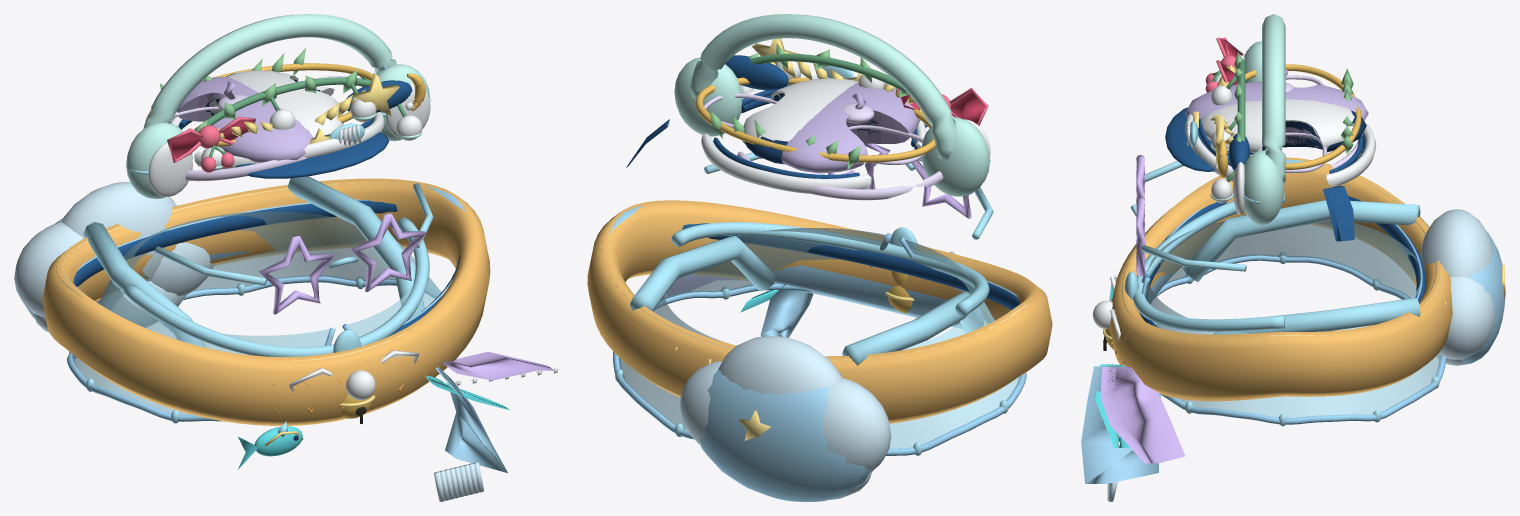
Rendered from nava-wardrobe-accessories-Can72iLc.glb.
The picture shows the model from 3 angles, left to right: view 1: azimuth 30°, elevation 25°; view 2: azimuth 150°, elevation 25°; view 3: azimuth 270°, elevation 25°; orthographic projection. The views are drawn at different scales.
Visible parts, largest first — view 1: honey knitted yarn | honey-neck-warmer, translucent raindrop ice | raindrop-cape, cloud-knit highlight | cloud-backpack, soft mint plush | mint-earmuffs, ice blue satin | cloud-backpack, ice blue satin | raindrop-cape, mist lavender velvet | mist-beret, snow ivory | sailor-hat, navy enamel textile | bell-collar, iridescent lilac | star-glasses, cloud-knit blue | cloud-scarf, cape edge opaque blue | raindrop-cape (+19 smaller); view 2: honey knitted yarn | honey-neck-warmer, soft mint plush | mint-earmuffs, cloud-knit blue | cloud-backpack, cloud-knit highlight | cloud-backpack, translucent raindrop ice | raindrop-cape, ice blue satin | cloud-backpack, snow ivory | sailor-hat, mist lavender velvet | mist-beret, ice blue satin | raindrop-cape, cloud-knit blue | cloud-scarf, navy enamel textile | bell-collar, cape edge opaque blue | raindrop-cape (+15 smaller); view 3: honey knitted yarn | honey-neck-warmer, translucent raindrop ice | raindrop-cape, ice blue satin | cloud-backpack, cloud-knit highlight | cloud-backpack, soft mint plush | mint-earmuffs, iridescent lilac | aurora-scarf, snow ivory | sailor-hat, ice blue satin | raindrop-cape, cloud-knit blue | cloud-scarf, cape edge opaque blue | raindrop-cape, mist lavender velvet | mist-beret, navy enamel textile | sailor-hat (+17 smaller).
Boxes of the visible parts, x1,y1,x2,y2 form: honey knitted yarn | honey-neck-warmer: (42, 178, 490, 425); translucent raindrop ice | raindrop-cape: (72, 211, 441, 414); cloud-knit highlight | cloud-backpack: (14, 182, 213, 332); soft mint plush | mint-earmuffs: (126, 14, 429, 198); ice blue satin | cloud-backpack: (83, 176, 424, 347); ice blue satin | raindrop-cape: (69, 217, 429, 423); mist lavender velvet | mist-beret: (177, 76, 314, 162); snow ivory | sailor-hat: (170, 70, 384, 169); navy enamel textile | bell-collar: (73, 200, 459, 334); iridescent lilac | star-glasses: (259, 213, 425, 314); cloud-knit blue | cloud-scarf: (64, 185, 507, 472); cape edge opaque blue | raindrop-cape: (67, 275, 437, 421); honey knitted yarn | honey-neck-warmer: (587, 200, 1052, 423); soft mint plush | mint-earmuffs: (674, 14, 989, 196); cloud-knit blue | cloud-backpack: (699, 369, 872, 501); cloud-knit highlight | cloud-backpack: (679, 336, 891, 499); translucent raindrop ice | raindrop-cape: (618, 228, 1019, 448); ice blue satin | cloud-backpack: (630, 236, 985, 365); snow ivory | sailor-hat: (701, 76, 926, 193); mist lavender velvet | mist-beret: (781, 83, 920, 173); ice blue satin | raindrop-cape: (615, 222, 1008, 455); cloud-knit blue | cloud-scarf: (608, 206, 1024, 337); navy enamel textile | bell-collar: (682, 223, 1020, 309); cape edge opaque blue | raindrop-cape: (613, 233, 1026, 455); honey knitted yarn | honey-neck-warmer: (1109, 157, 1452, 401); translucent raindrop ice | raindrop-cape: (1144, 220, 1441, 417); ice blue satin | cloud-backpack: (1182, 200, 1420, 334); cloud-knit highlight | cloud-backpack: (1419, 209, 1494, 365); soft mint plush | mint-earmuffs: (1244, 14, 1285, 224); iridescent lilac | aurora-scarf: (1100, 367, 1185, 463); snow ivory | sailor-hat: (1185, 99, 1376, 186); ice blue satin | raindrop-cape: (1124, 193, 1439, 426); cloud-knit blue | cloud-scarf: (1081, 159, 1326, 483); cape edge opaque blue | raindrop-cape: (1141, 254, 1446, 424); mist lavender velvet | mist-beret: (1185, 69, 1368, 144); navy enamel textile | sailor-hat: (1198, 119, 1363, 241).
Size of the model in its own units: 2.33 by 2.33 by 2.17.
